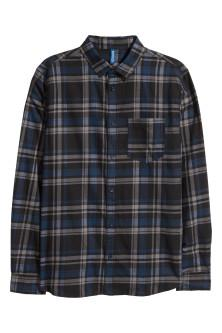teeshirt: (4, 33, 217, 303)
